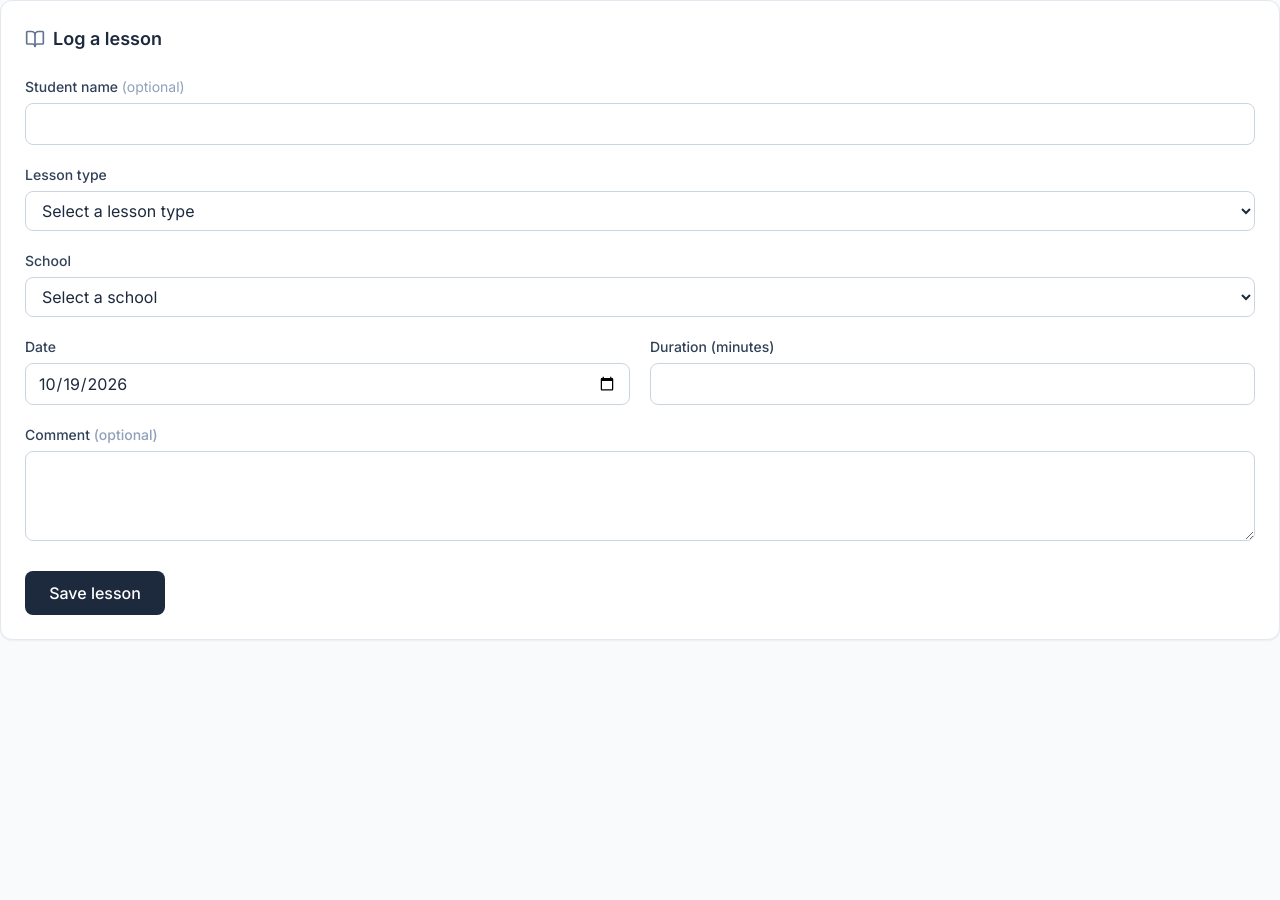
Test: LessonForm › requires a lesson type
In the field labelled "Student name (optional)": point(640, 124) [25,103,1255,145], type "Alex"
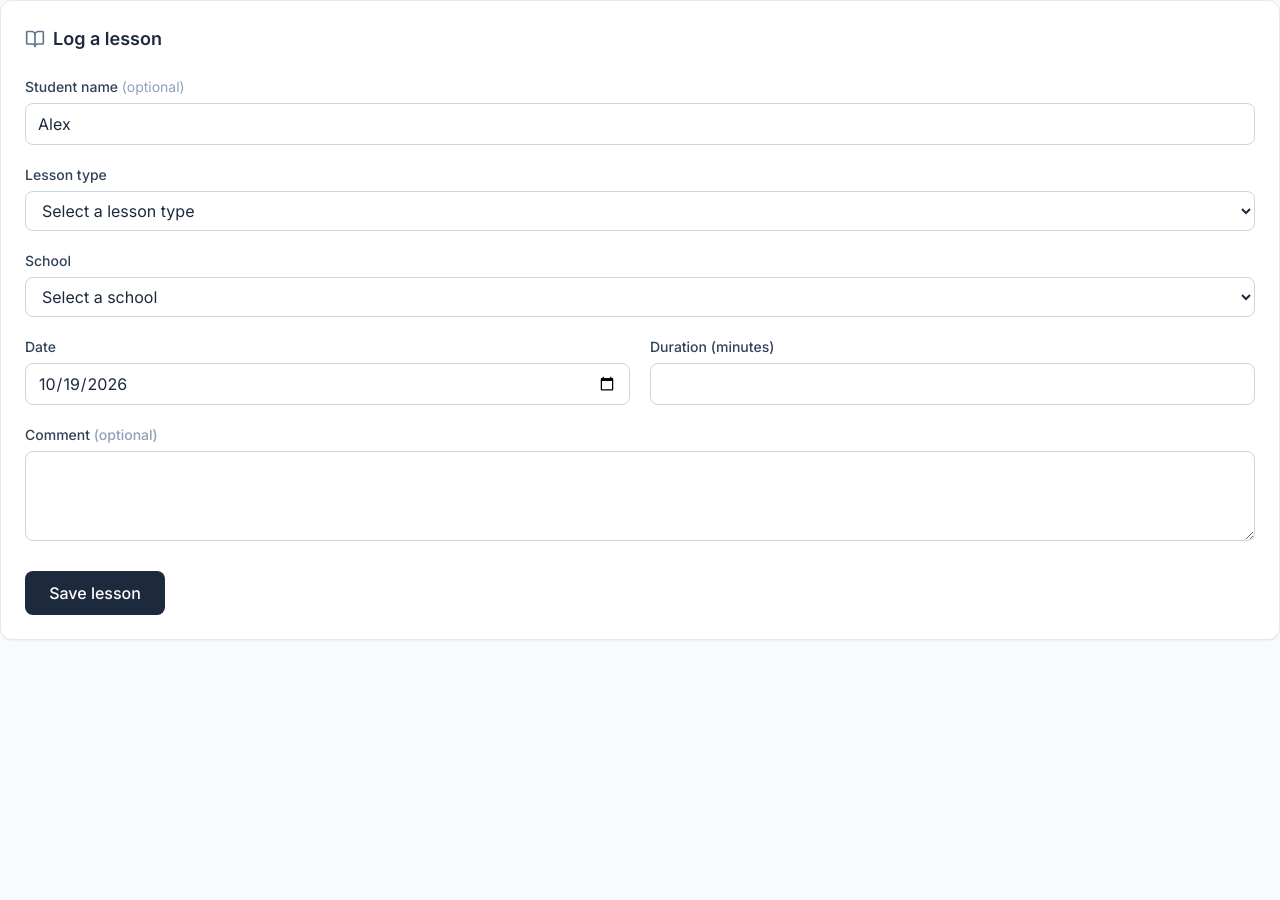
Click the button "Save lesson": point(95, 593) [25,571,165,615]
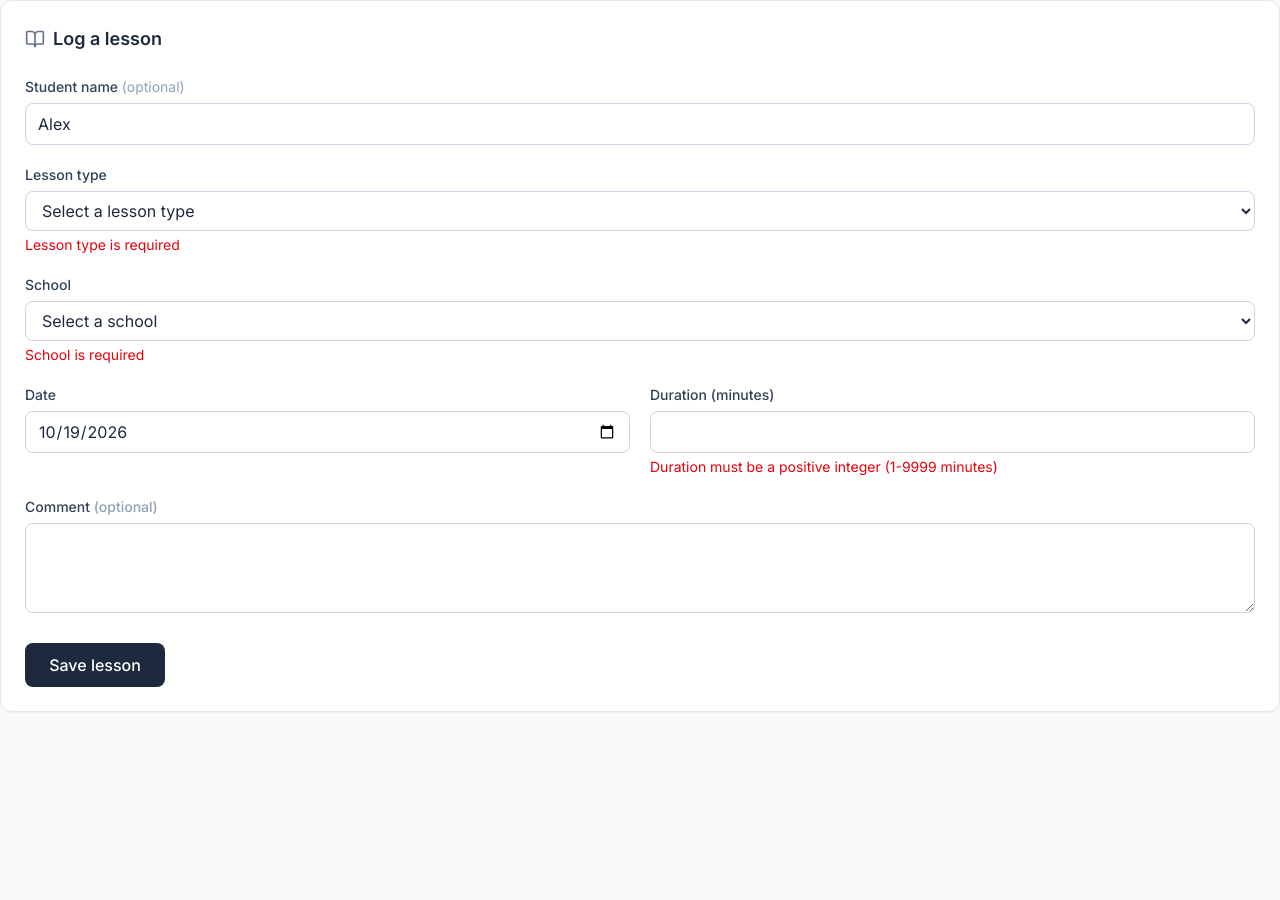
Expected: the text "Lesson type is required" is shown, [25,236,180,253]
